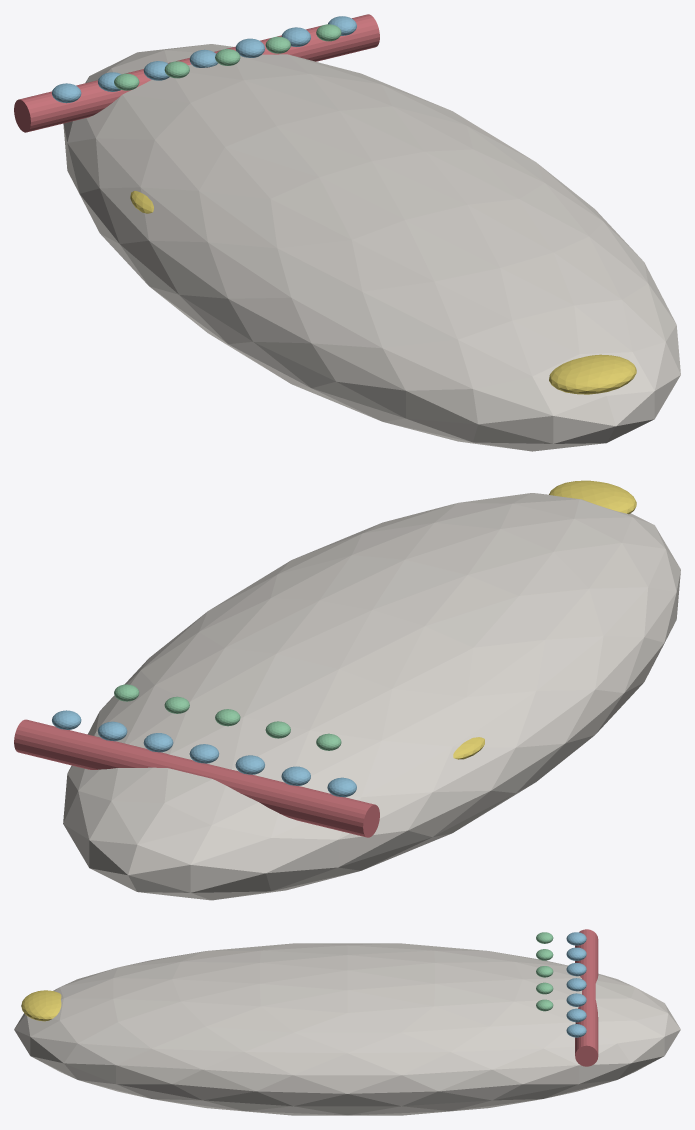
The model's file is endocrine_educational.glb.
3 views of the same model, one above another, from view 1: azimuth 30°, elevation 25°; view 2: azimuth 150°, elevation 25°; view 3: azimuth 270°, elevation 25° (orthographic). The views are drawn at different scales.
Parts seen in each view (by area): view 1: Siluet Tubuh, Pembuluh Darah, Peringatan Hipoglikemia Otak; view 2: Siluet Tubuh, Pembuluh Darah, Peringatan Hipoglikemia Otak; view 3: Siluet Tubuh, Pembuluh Darah, Peringatan Hipoglikemia Otak.
Part boxes in pixels (left/top/right/bottom): Siluet Tubuh: left=63, top=44, right=680, bottom=451; Pembuluh Darah: left=14, top=14, right=379, bottom=132; Peringatan Hipoglikemia Otak: left=549, top=354, right=636, bottom=394; Siluet Tubuh: left=63, top=493, right=680, bottom=900; Pembuluh Darah: left=14, top=719, right=379, bottom=837; Peringatan Hipoglikemia Otak: left=549, top=480, right=636, bottom=514; Siluet Tubuh: left=14, top=943, right=680, bottom=1115; Pembuluh Darah: left=575, top=929, right=598, bottom=1066; Peringatan Hipoglikemia Otak: left=21, top=990, right=61, bottom=1021.
Bounding box in the file's own units: 2.1 × 0.925 × 4.6.
